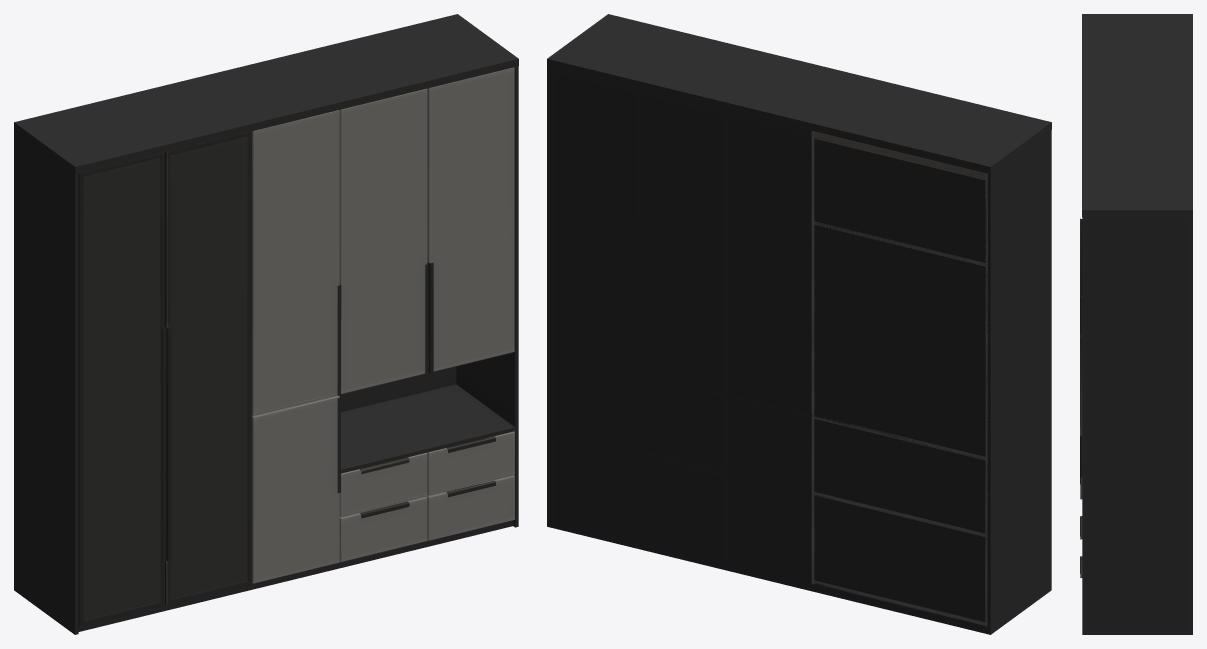
The model's file is raw_model.obj.
3 views of the same model, side by side, from view 1: azimuth 30°, elevation 25°; view 2: azimuth 150°, elevation 25°; view 3: azimuth 270°, elevation 25° (orthographic). The views are drawn at different scales.
Parts seen in each view (by area): view 1: solid_005, solid_006, glass_001, solid_002; view 2: solid_006, solid_004; view 3: solid_006, solid_002.
Part boxes in pixels (x1,y1,x2,y2): solid_005: (252,67,514,583); solid_006: (14,14,518,634); glass_001: (83,136,247,620); solid_002: (78,131,495,626); solid_006: (547,14,1051,634); solid_004: (811,131,987,626); solid_006: (1082,14,1192,634); solid_002: (1080,218,1082,577).
Bounding box in the file's own units: 2.3 × 2.32 × 0.5586.
Materials: 1 (1 with a texture image).
